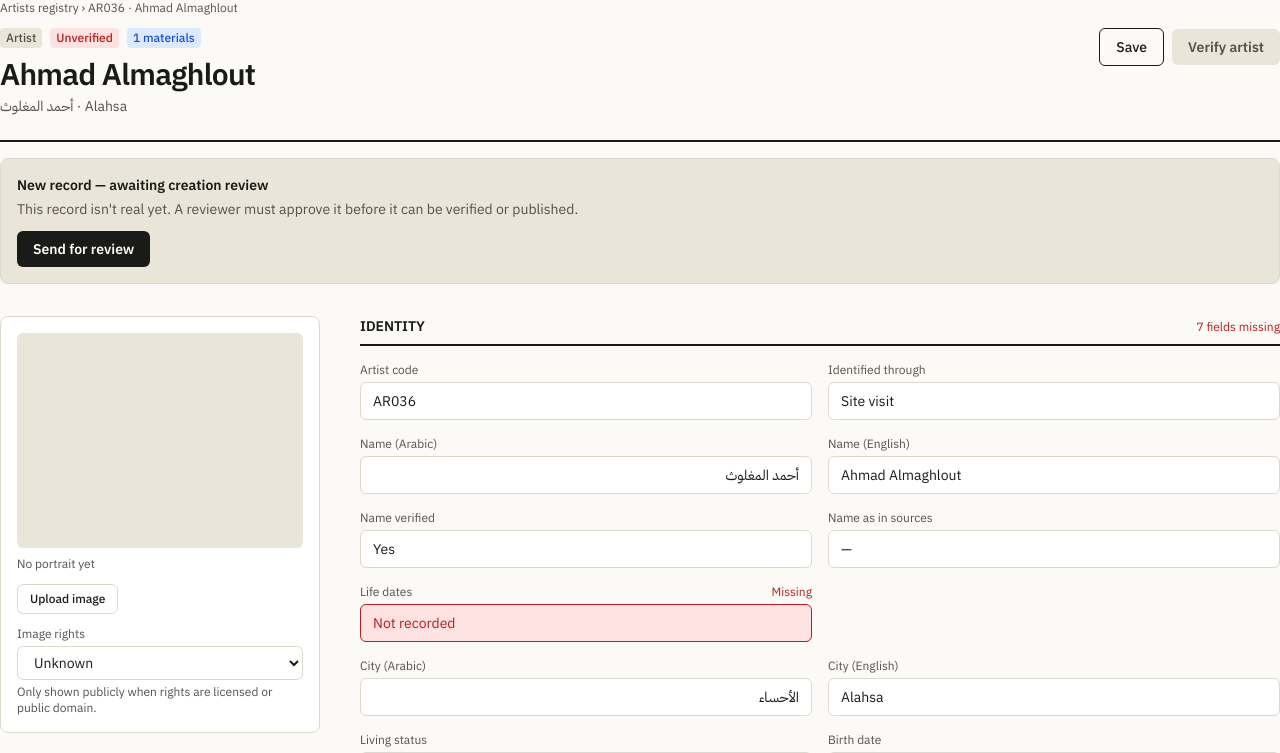
Test: ArtistCurationPage › sends a brand-new artist's creation for review with zero prior edits — the reported bug
Click the button with test id "send-for-review". click: (84, 249)
box: [17,231,150,267]
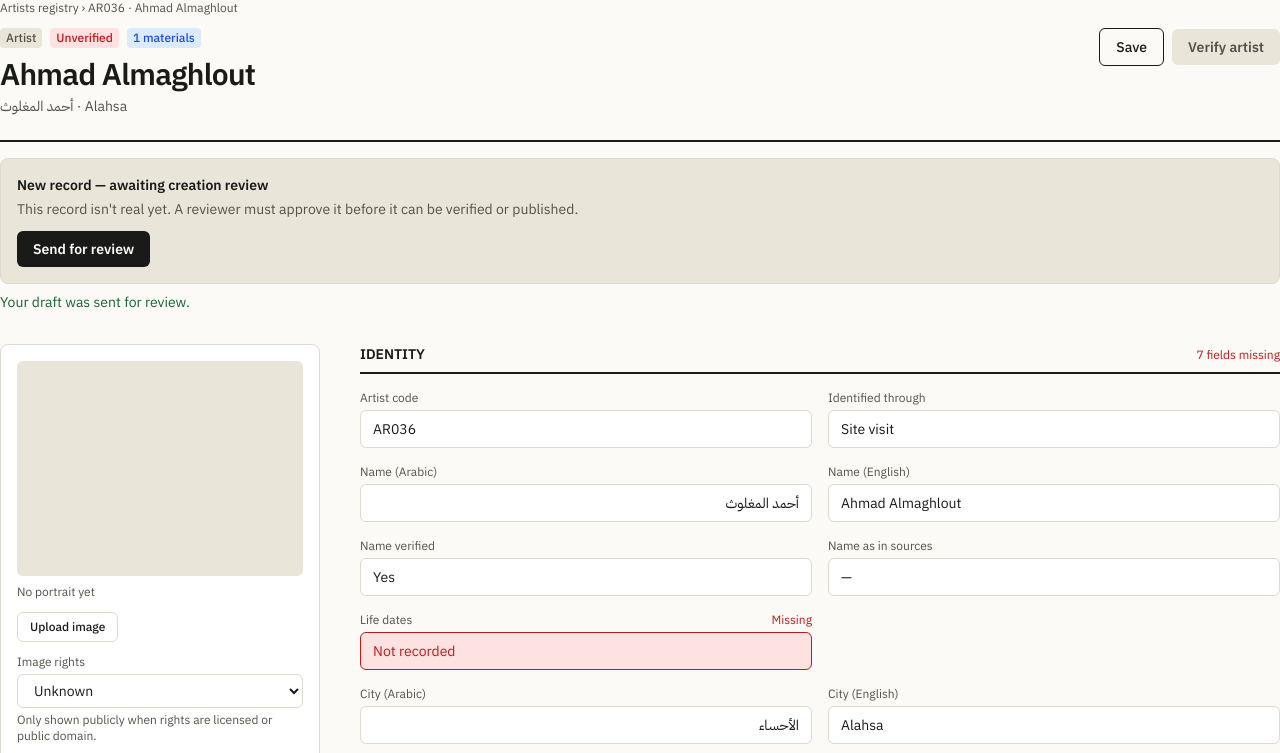
Expected: the text with test id "draft-notice" reads "Your draft was sent for review.", [0,293,190,311]
